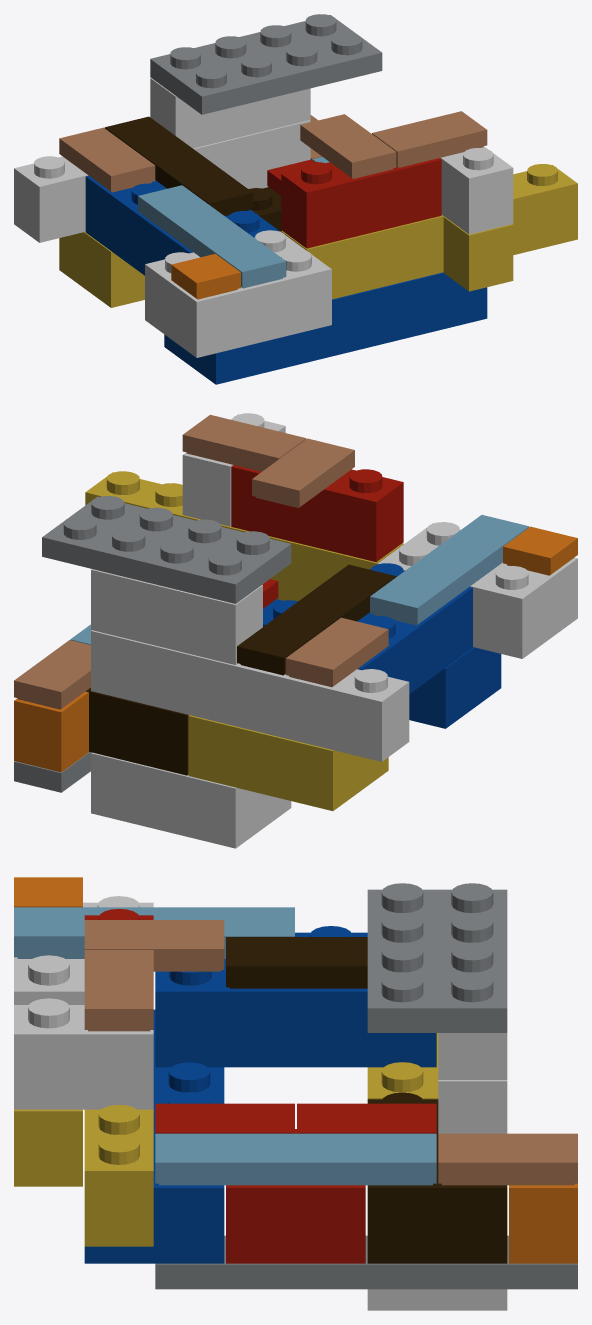
3 renders of one model, top to bottom at view 1: azimuth 30°, elevation 25°; view 2: azimuth 150°, elevation 25°; view 3: azimuth 270°, elevation 25°, orthographic. The views are drawn at different scales.
Visible parts, largest first — view 1: box5_16.box5_16n_box5_16, 3009_2.3009_2n_3009_2, box5_25.box5_25n_box5_25, 3622_2.3622_2n_3622_2, 3002_3.3002_3n_3002_3, 3009_1.3009_1n_3009_1, box5_30.box5_30n_box5_30, 2431_3.2431_3n_2431_3, 2431_2.2431_2n_2431_2, 3622_1.3622_1n_3622_1, 3001_1.3001_1n_3001_1, 3002s01_3.3002s01_3n_3002s01_3 (+18 smaller); view 2: 3009s01_1.3009s01_1n_3009s01_1, 3002s01_2.3002s01_2n_3002s01_2, 3002s01_4.3002s01_4n_3002s01_4, box5_25.box5_25n_box5_25, box4t_1.box4t_1n_box4t_1, box4t_2.box4t_2n_box4t_2, 3002s01_3.3002s01_3n_3002s01_3, 3002s01_1.3002s01_1n_3002s01_1, 2431_2.2431_2n_2431_2, 2431_3.2431_3n_2431_3, 3001_1.3001_1n_3001_1, box5_16.box5_16n_box5_16 (+17 smaller); view 3: 3001_1.3001_1n_3001_1, box5_25.box5_25n_box5_25, box5_30.box5_30n_box5_30, box5_4.box5_4n_box5_4, 3002s01_1.3002s01_1n_3002s01_1, box5_9.box5_9n_box5_9, box5_16.box5_16n_box5_16, 2431_1.2431_1n_2431_1, 3009s01_2.3009s01_2n_3009s01_2, box4_5.box4_5n_box4_5, 2431_3.2431_3n_2431_3, box5_7.box5_7n_box5_7 (+48 smaller).
Boxes of the visible parts, x1=… form: box5_16.box5_16n_box5_16: x1=164, y1=272, x2=487, y2=384; 3009_2.3009_2n_3009_2: x1=306, y1=183, x2=577, y2=299; box5_25.box5_25n_box5_25: x1=150, y1=15, x2=382, y2=114; 3622_2.3622_2n_3622_2: x1=306, y1=160, x2=441, y2=248; 3002_3.3002_3n_3002_3: x1=196, y1=269, x2=331, y2=357; 3009_1.3009_1n_3009_1: x1=39, y1=121, x2=310, y2=242; box5_30.box5_30n_box5_30: x1=440, y1=146, x2=513, y2=234; 2431_3.2431_3n_2431_3: x1=138, y1=185, x2=285, y2=271; 2431_2.2431_2n_2431_2: x1=105, y1=116, x2=252, y2=203; 3622_1.3622_1n_3622_1: x1=175, y1=88, x2=310, y2=148; 3001_1.3001_1n_3001_1: x1=85, y1=177, x2=189, y2=275; 3002s01_3.3002s01_3n_3002s01_3: x1=145, y1=231, x2=331, y2=357; 3009s01_1.3009s01_1n_3009s01_1: x1=91, y1=630, x2=409, y2=761; 3002s01_2.3002s01_2n_3002s01_2: x1=188, y1=715, x2=388, y2=810; 3002s01_4.3002s01_4n_3002s01_4: x1=91, y1=752, x2=291, y2=848; box5_25.box5_25n_box5_25: x1=42, y1=496, x2=291, y2=603; box4t_1.box4t_1n_box4t_1: x1=91, y1=569, x2=262, y2=664; box4t_2.box4t_2n_box4t_2: x1=231, y1=465, x2=403, y2=562; 3002s01_3.3002s01_3n_3002s01_3: x1=377, y1=523, x2=577, y2=658; 3002s01_1.3002s01_1n_3002s01_1: x1=86, y1=687, x2=188, y2=775; 2431_2.2431_2n_2431_2: x1=237, y1=564, x2=395, y2=657; 2431_3.2431_3n_2431_3: x1=370, y1=515, x2=528, y2=607; 3001_1.3001_1n_3001_1: x1=361, y1=588, x2=472, y2=693; box5_16.box5_16n_box5_16: x1=263, y1=599, x2=501, y2=728; 3001_1.3001_1n_3001_1: x1=155, y1=991, x2=436, y2=1067; box5_25.box5_25n_box5_25: x1=367, y1=889, x2=507, y2=1032; box5_30.box5_30n_box5_30: x1=14, y1=1005, x2=153, y2=1109; box5_4.box5_4n_box5_4: x1=155, y1=1235, x2=577, y2=1289; 3002s01_1.3002s01_1n_3002s01_1: x1=367, y1=1099, x2=507, y2=1263; box5_9.box5_9n_box5_9: x1=226, y1=1129, x2=365, y2=1263; box5_16.box5_16n_box5_16: x1=84, y1=1009, x2=224, y2=1263; 2431_1.2431_1n_2431_1: x1=155, y1=1133, x2=436, y2=1162; 3009s01_2.3009s01_2n_3009s01_2: x1=84, y1=1109, x2=153, y2=1246; box4_5.box4_5n_box4_5: x1=155, y1=1162, x2=436, y2=1183; 2431_3.2431_3n_2431_3: x1=14, y1=907, x2=294, y2=936; box5_7.box5_7n_box5_7: x1=509, y1=1183, x2=577, y2=1263.
Bounding box in the file's own units: 1.8 × 1.07 × 1.6.
